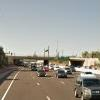Car: (52, 62, 75, 82)
